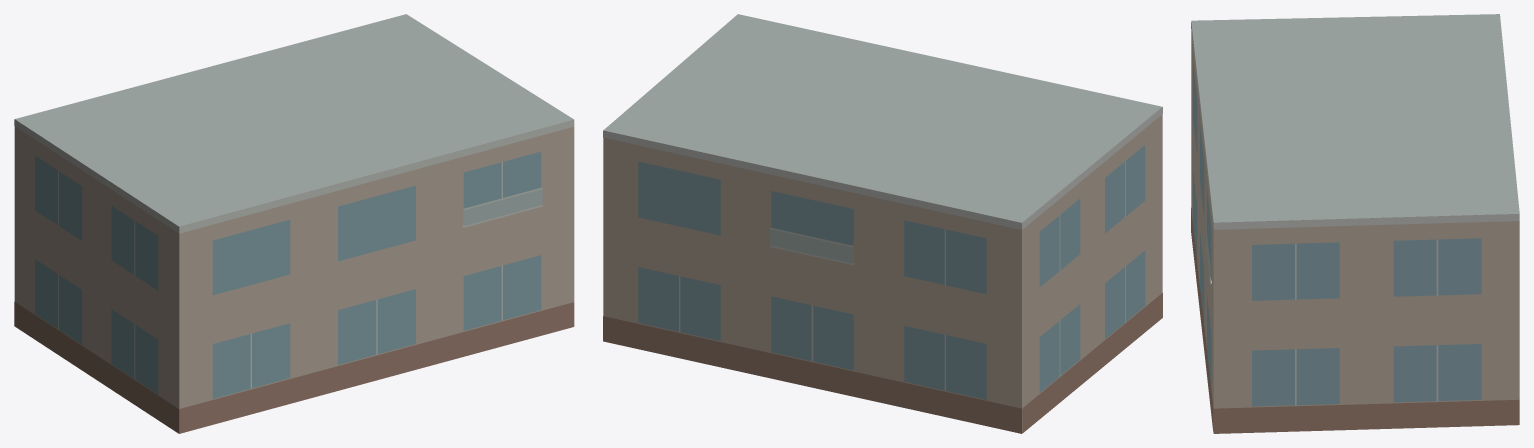
The model's file is survey-upis-32494216.glb.
The picture shows the model from 3 angles, left to right: view 1: azimuth 30°, elevation 25°; view 2: azimuth 150°, elevation 25°; view 3: azimuth 270°, elevation 25°; orthographic projection.
Visible parts, largest first — view 1: survey-upis-32494216.tmp; view 2: survey-upis-32494216.tmp; view 3: survey-upis-32494216.tmp.
Part boxes in pixels (<box>): survey-upis-32494216.tmp: <box>14,14,574,433</box>; survey-upis-32494216.tmp: <box>603,14,1162,433</box>; survey-upis-32494216.tmp: <box>1191,14,1519,433</box>.
Size of the model in its own units: 15.26 by 7.2 by 10.16.
